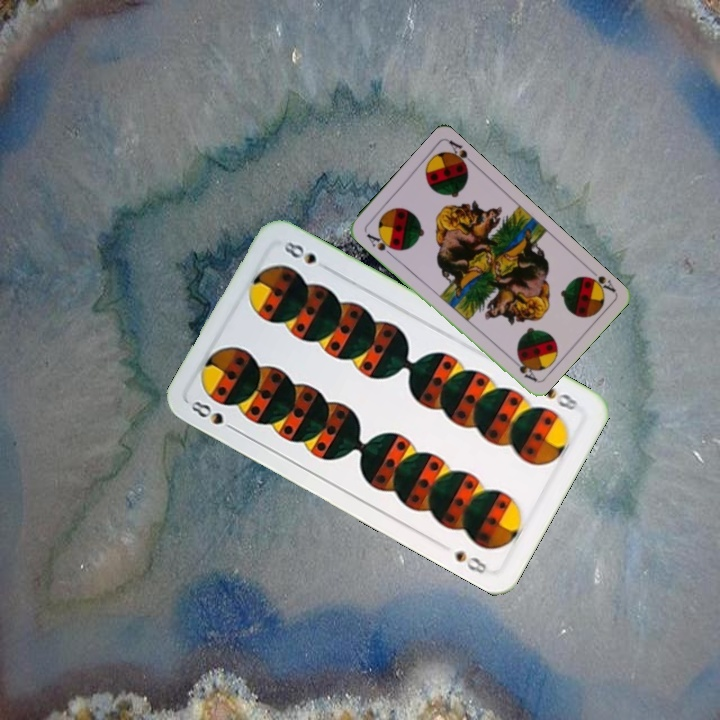S8: (186, 396, 240, 435), (541, 383, 585, 413)
SA: (580, 264, 618, 297), (362, 229, 399, 259)
